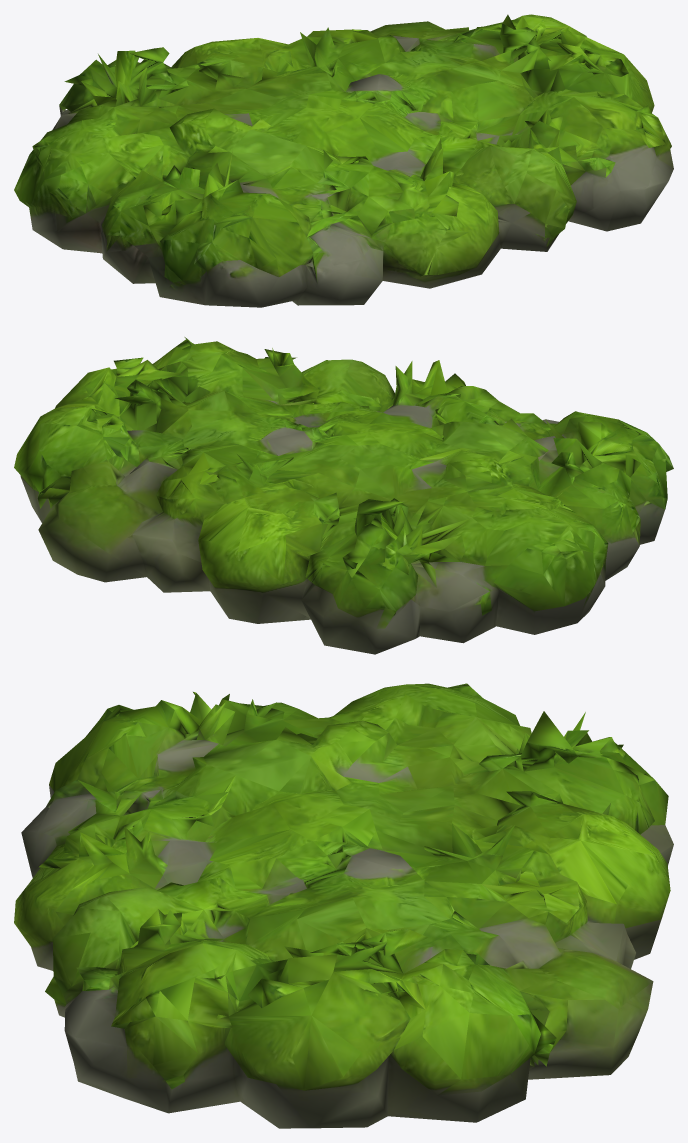
File: gnd_temperate_moss_rocks.fbx
The picture shows the model from 3 angles, top to bottom: view 1: azimuth 30°, elevation 25°; view 2: azimuth 150°, elevation 25°; view 3: azimuth 270°, elevation 25°; orthographic projection. The views are drawn at different scales.
Visible parts, largest first — view 1: gnd_temperate_moss_rocks_LOD0; view 2: gnd_temperate_moss_rocks_LOD0; view 3: gnd_temperate_moss_rocks_LOD0.
Boxes of the visible parts, x1,y1,x2,y2 form: gnd_temperate_moss_rocks_LOD0: (14, 14, 673, 307); gnd_temperate_moss_rocks_LOD0: (14, 337, 673, 654); gnd_temperate_moss_rocks_LOD0: (14, 683, 673, 1128).
Size of what is drawn, in the model's own units: 0.9804 by 0.2105 by 0.7475.
